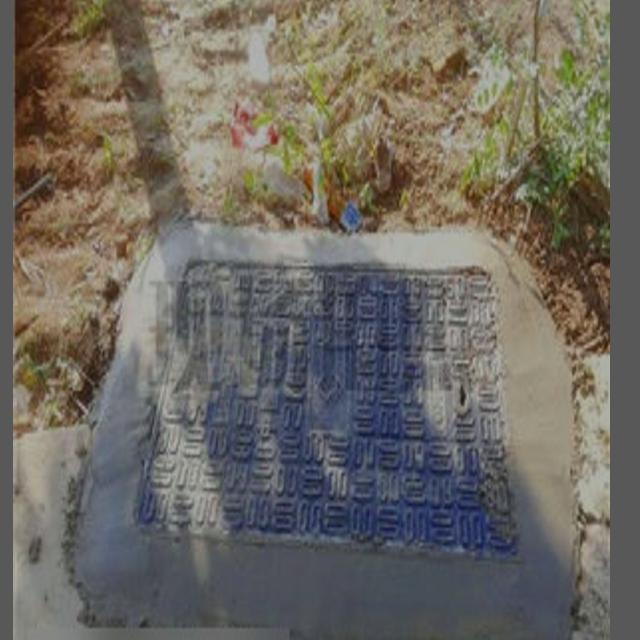good: (130, 247, 524, 551)
